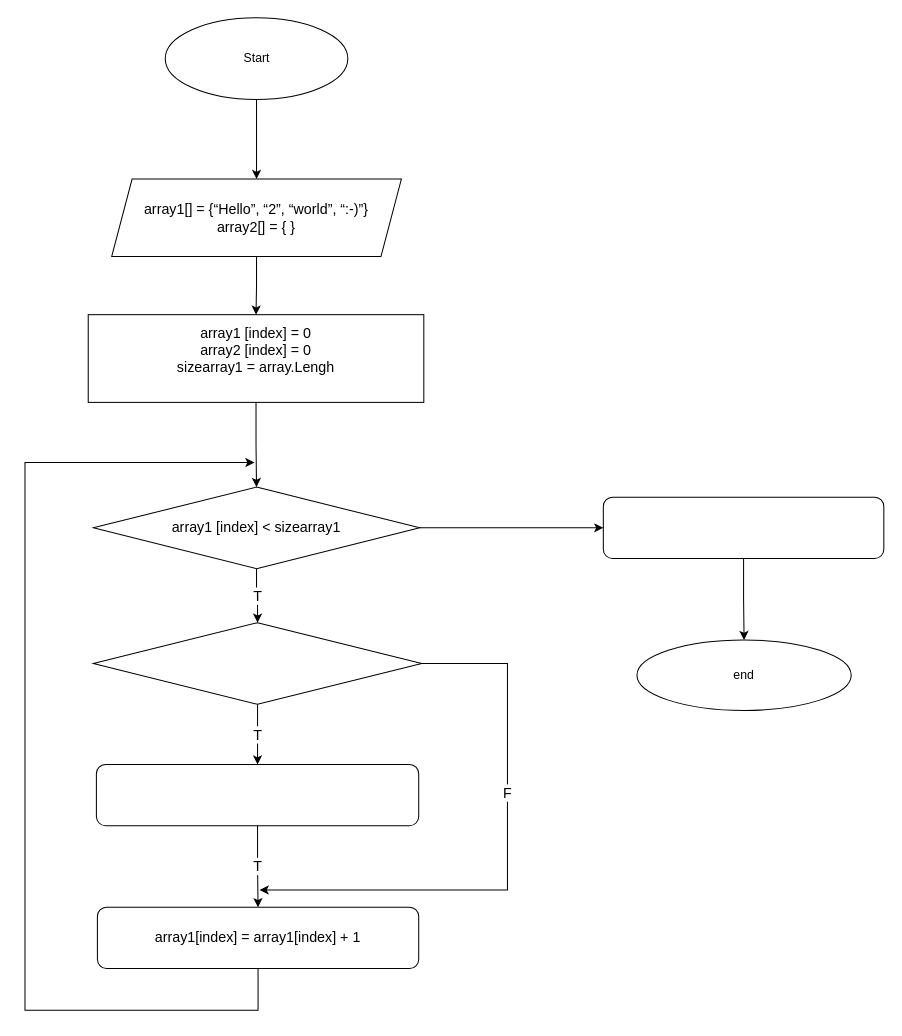
Image size: 902x1036. Some labels were removed from this diagram. The shapes that lost their labels are listed below. From the top down, each one's centre as x and y in pixels, then its label:
[743,527]: print array2
[257,663]: array1[index].Lenght <= 3
[257,794]: array2[index] = array1[index]
